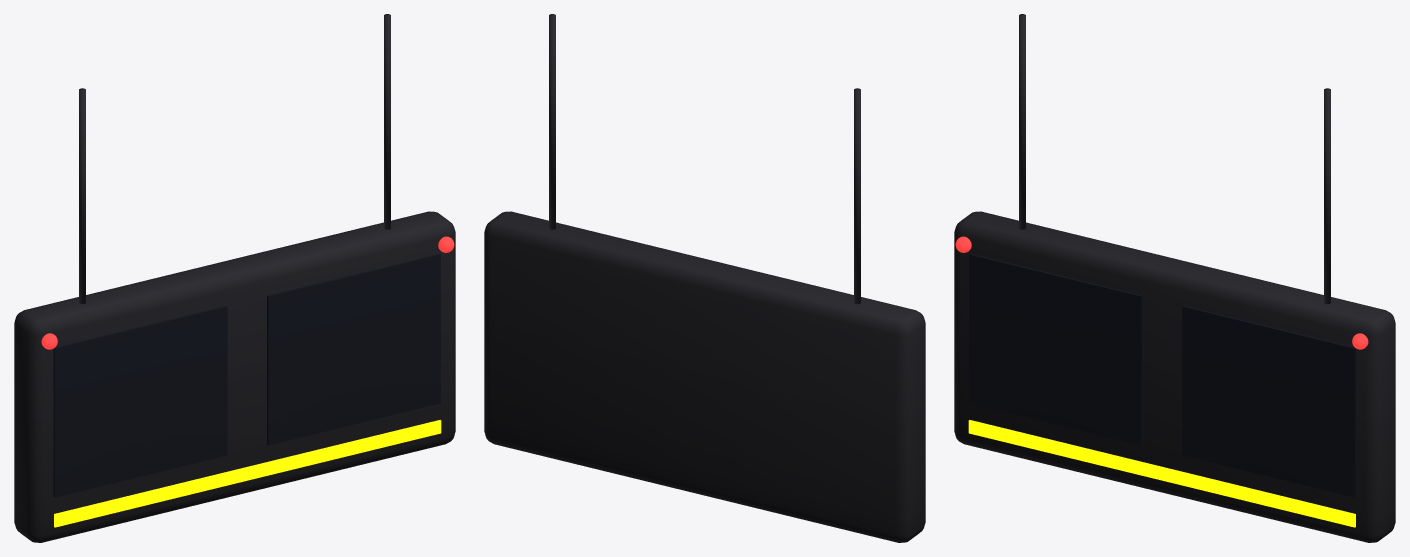
Rendered from Scoreboard.fbx.
3 views of the same model, side by side, from view 1: azimuth 30°, elevation 25°; view 2: azimuth 150°, elevation 25°; view 3: azimuth 330°, elevation 25° (orthographic).
Visible parts, largest first — view 1: Scoreboard_Body; view 2: Scoreboard_Body; view 3: Scoreboard_Body.
Boxes of the visible parts, x1,y1,x2,y2 form: Scoreboard_Body: [14, 14, 455, 542]; Scoreboard_Body: [484, 14, 925, 542]; Scoreboard_Body: [954, 14, 1395, 542].
Bounding box in the file's own units: 4.2 × 4.1 × 0.49.
3 materials, 1 textured.
